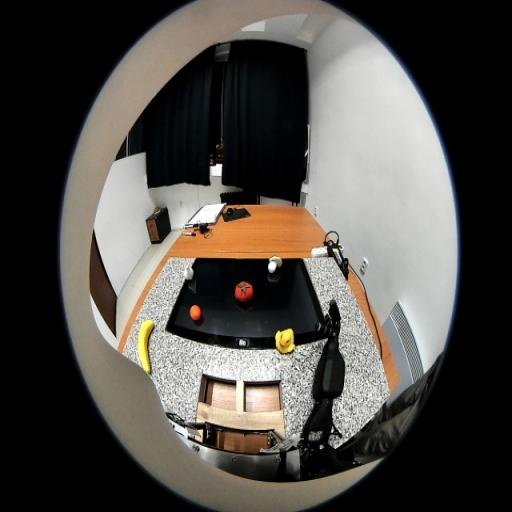Banana: (138, 320, 154, 374)
Duck: (275, 328, 295, 354)
Mushroom: (268, 255, 282, 273)
Onion: (184, 265, 194, 280)
Orange: (190, 305, 201, 321)
RightHand: (328, 321, 341, 340)
Tomato: (235, 282, 253, 302)
